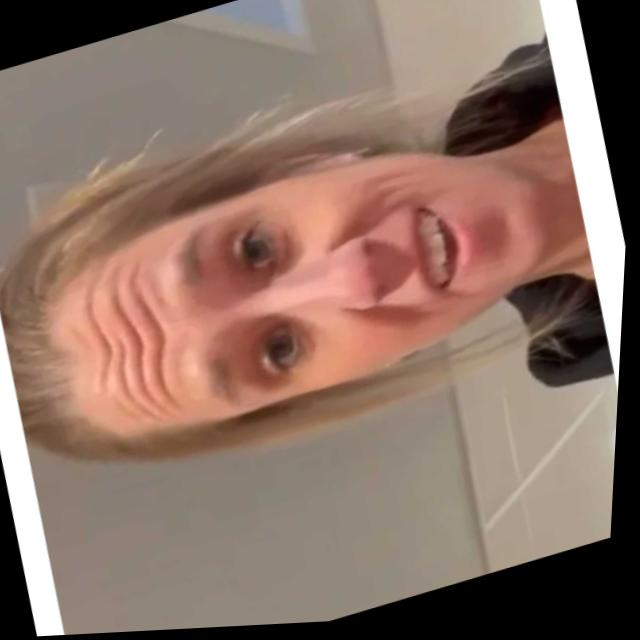Wrinkles: (111, 267, 178, 418), (130, 260, 184, 412), (118, 338, 171, 421), (88, 269, 117, 390)
